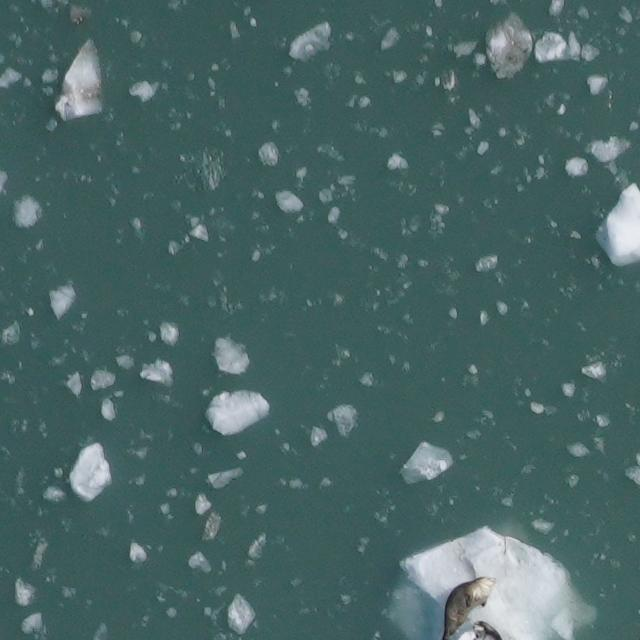seal: (438, 572, 501, 640)
